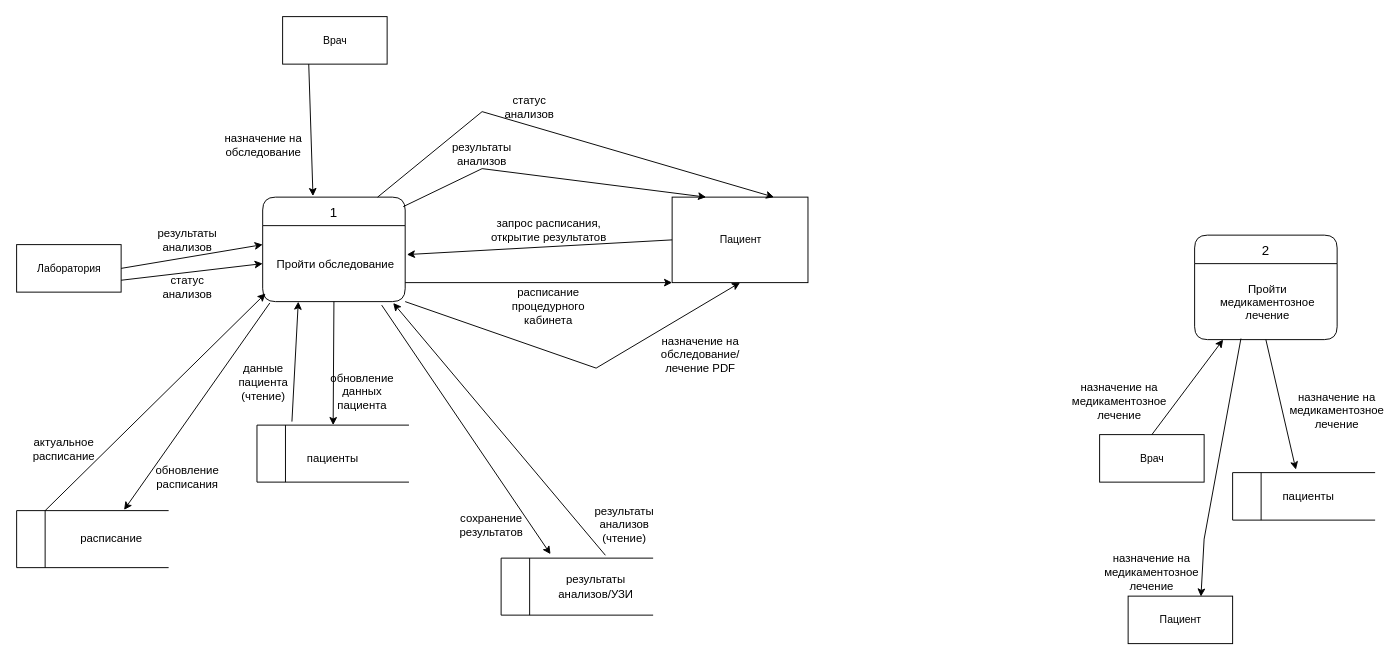
This 1400x660 diagram has some shape labels left out. The box of each missing label's shape, as (x1, y1, x2, y2) in pixels:
D1: (256, 424, 409, 482)
D2: (500, 557, 653, 615)
D3: (16, 510, 169, 568)
D4: (1232, 472, 1375, 520)
